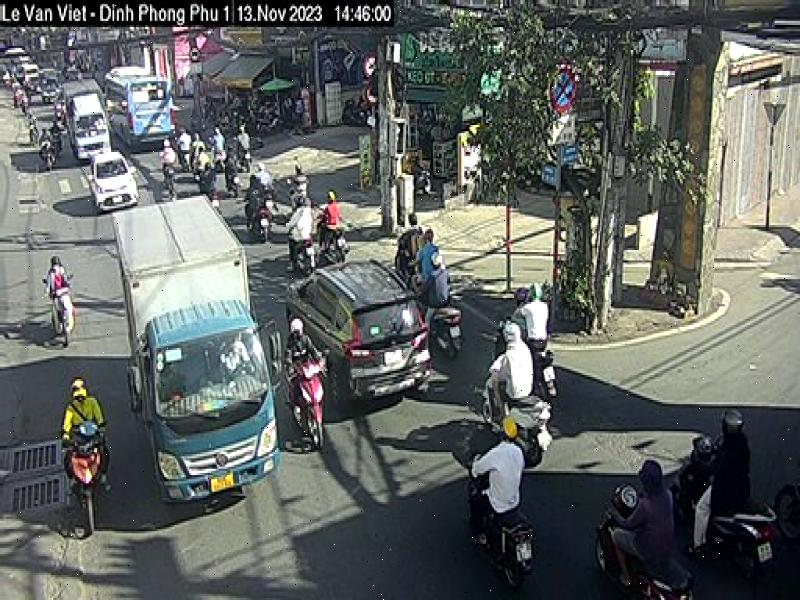bus: (107, 66, 179, 150)
truck: (111, 195, 282, 500)
